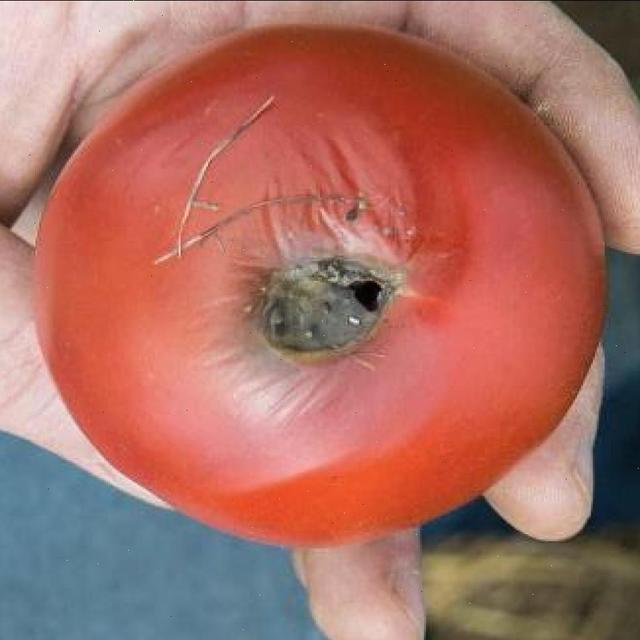Cracking Fruit: (72, 53, 212, 206)
